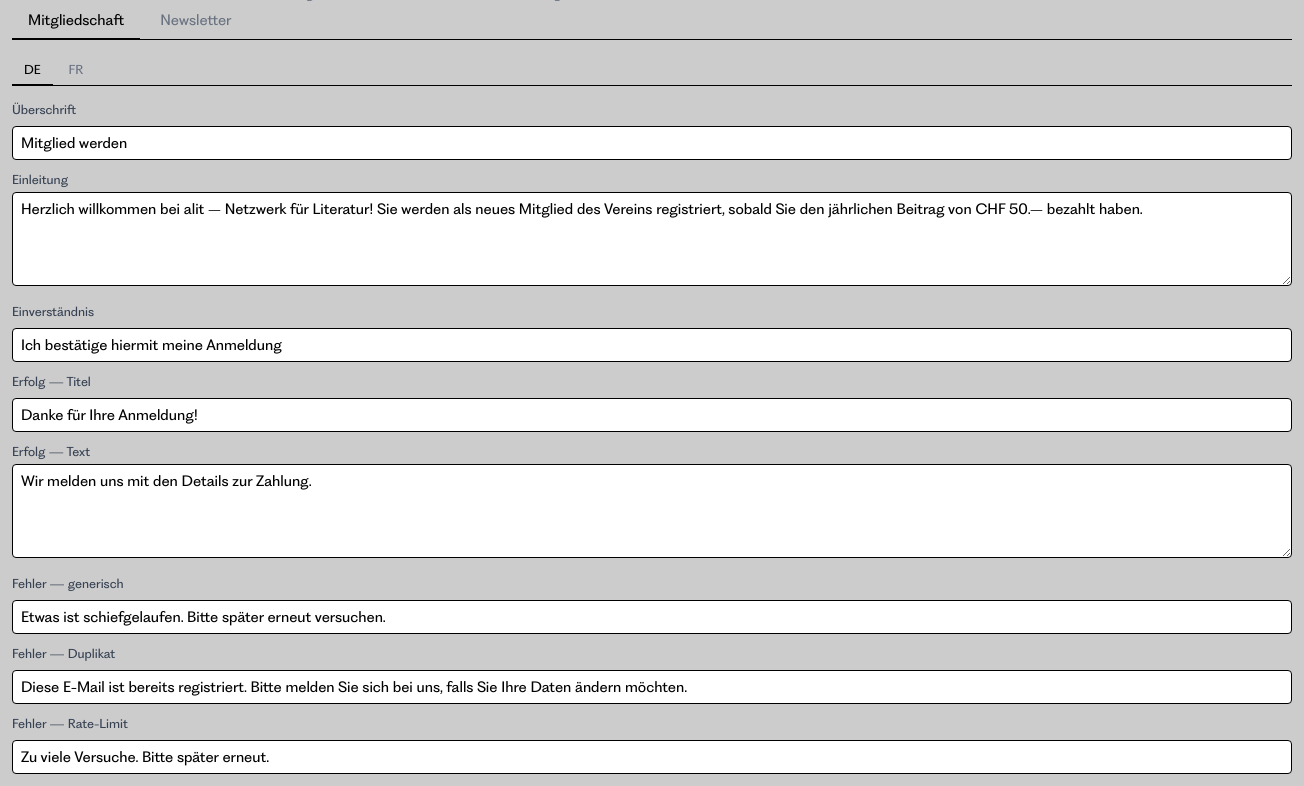
Test: SubmissionTextsEditor › after successful save: re-snapshots from server response → isDirty resets to false
Replace the text in the field with id "submission-text-mitgliedschaft-de-heading" with "X" at (652, 143), box [12,126,1292,160]
(page scrolled)
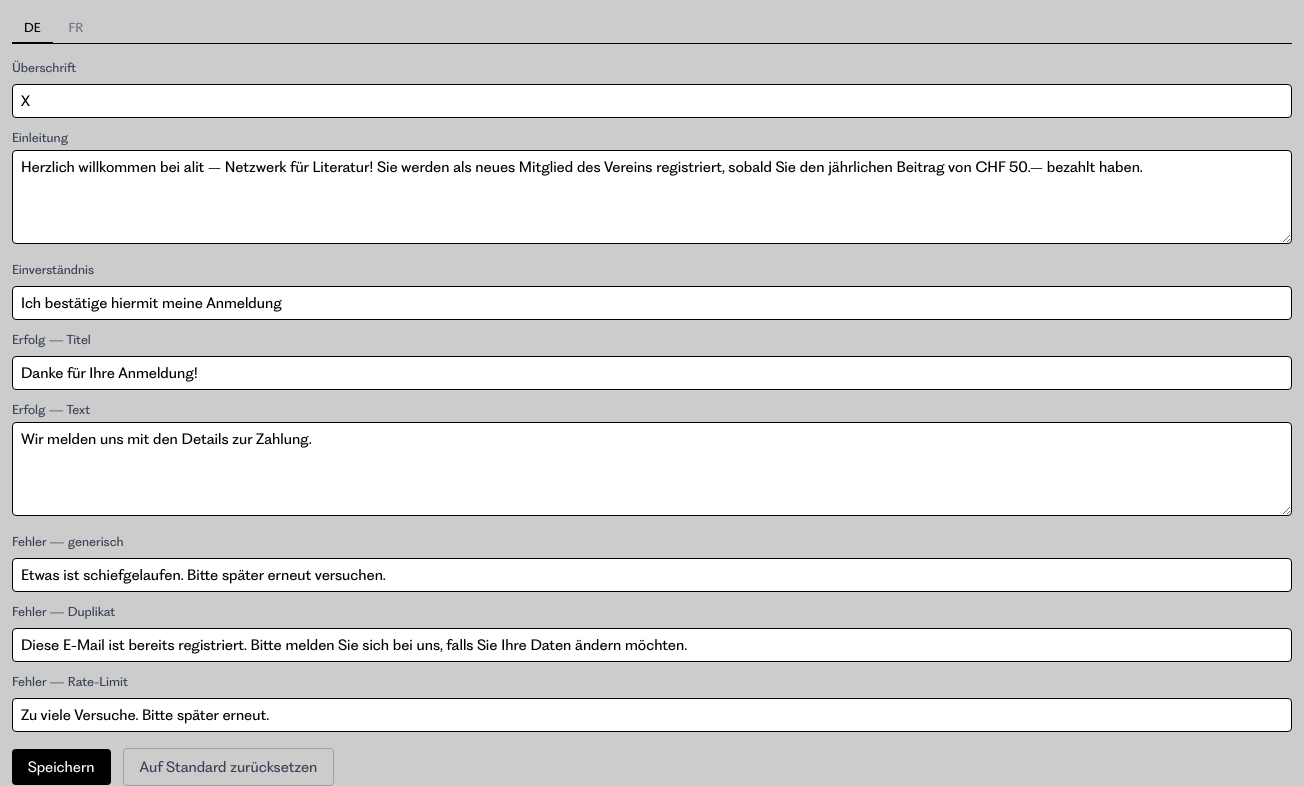
Click the button "Speichern" at (61, 767), box [12,749,110,785]
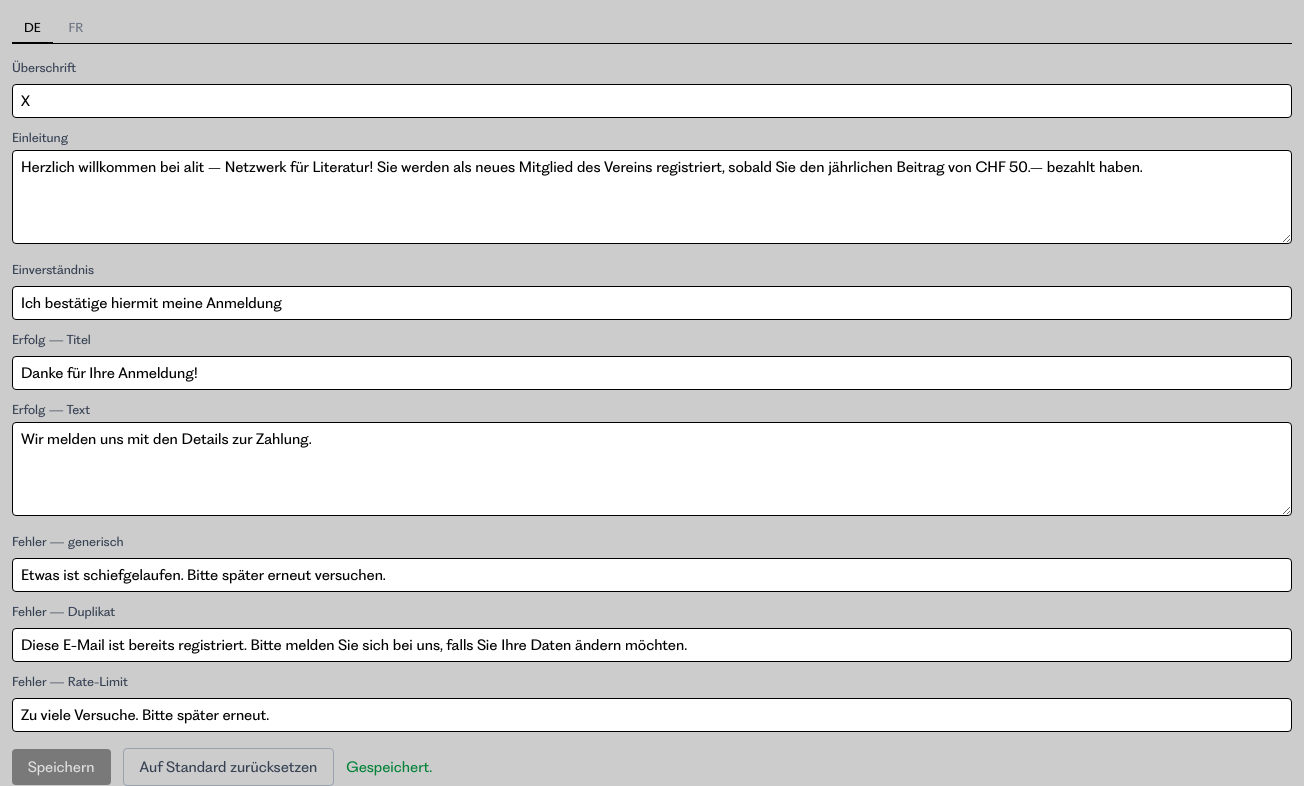
Check: the button "Speichern" is disabled, box [12,749,110,785]
Check: the text "Gespeichert." is shown, box [346,757,432,777]
